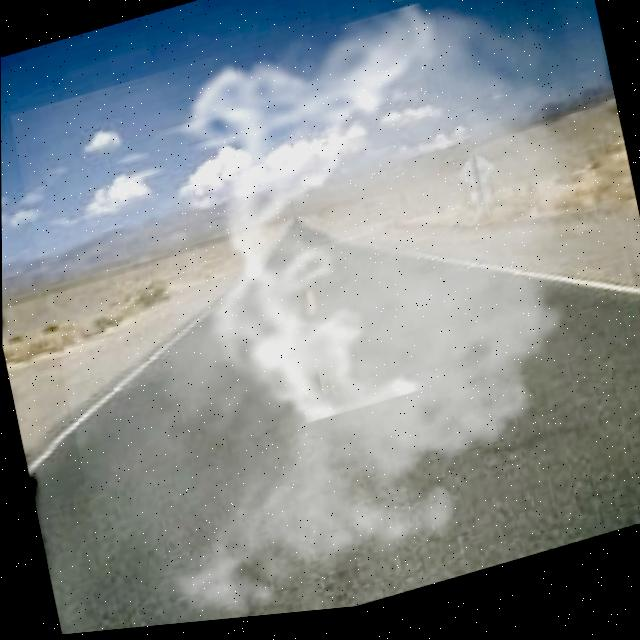Smoke: (8, 0, 640, 632)
